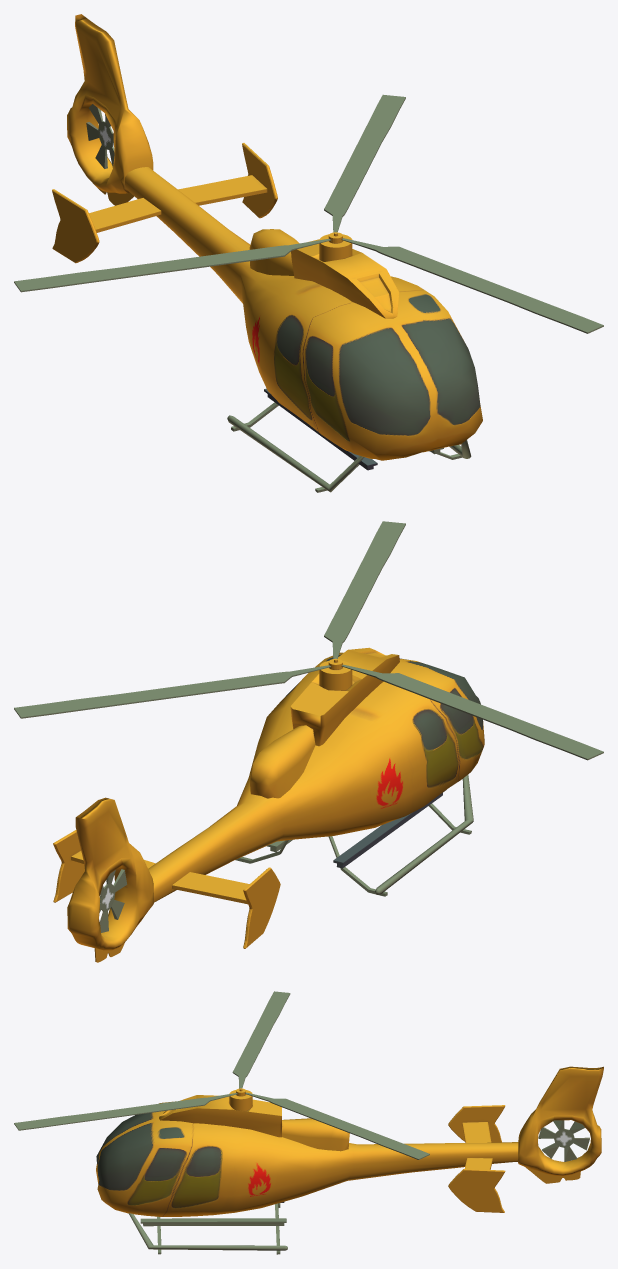
3 renders of one model, top to bottom at view 1: azimuth 30°, elevation 25°; view 2: azimuth 150°, elevation 25°; view 3: azimuth 270°, elevation 25°, orthographic. The views are drawn at different scales.
Visible parts, largest first — view 1: heli, fan, fan2; view 2: heli, fan, fan2; view 3: heli, fan, fan2.
Boxes of the visible parts, box(x1,y1,x2,y2) form: heli: box(52, 14, 482, 492); fan: box(14, 94, 603, 333); fan2: box(86, 104, 114, 168); heli: box(53, 647, 484, 962); fan: box(14, 521, 603, 760); fan2: box(99, 869, 127, 932); heli: box(96, 1066, 603, 1254); fan: box(14, 991, 429, 1159); fan2: box(538, 1120, 589, 1161).
Bounding box in the file's own units: 7.83 × 3.5 × 11.63.
2 materials, 2 textured.
